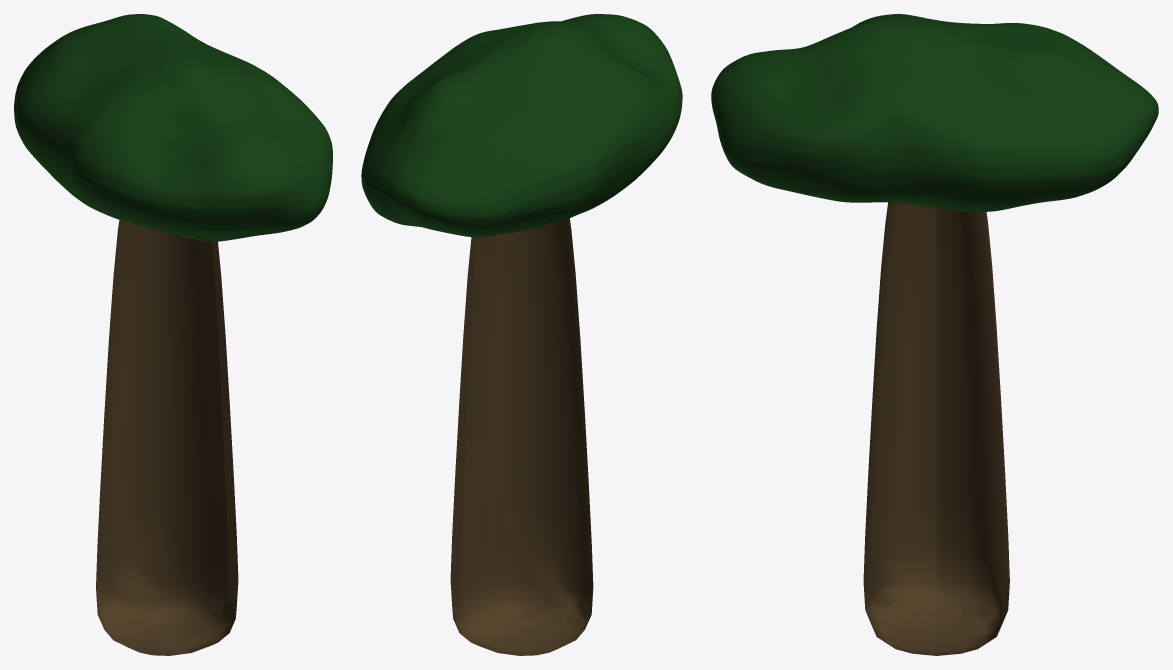
Rendered from baobab4.gltf.
The picture shows the model from 3 angles, left to right: view 1: azimuth 30°, elevation 25°; view 2: azimuth 150°, elevation 25°; view 3: azimuth 270°, elevation 25°; orthographic projection. The views are drawn at different scales.
Parts seen in each view (by area): view 1: Sphere; view 2: Sphere; view 3: Sphere.
Boxes of the visible parts, box(x1,y1,x2,y2) form: Sphere: box(14, 14, 332, 655); Sphere: box(361, 14, 682, 655); Sphere: box(711, 14, 1158, 655).
Size of the model in its own units: 7.52 by 18.6 by 12.28.
